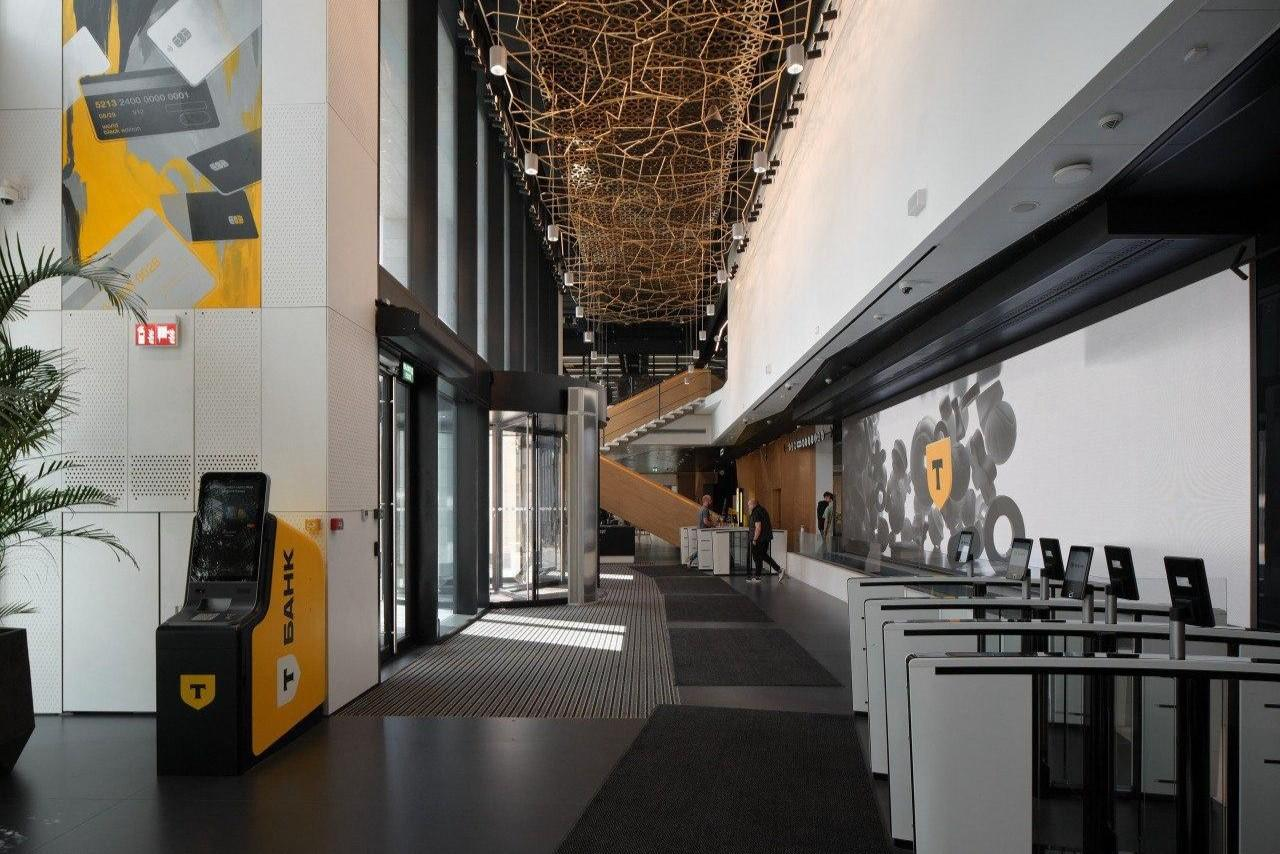TBank: (927, 437, 950, 512), (278, 655, 303, 707), (180, 676, 215, 711)
